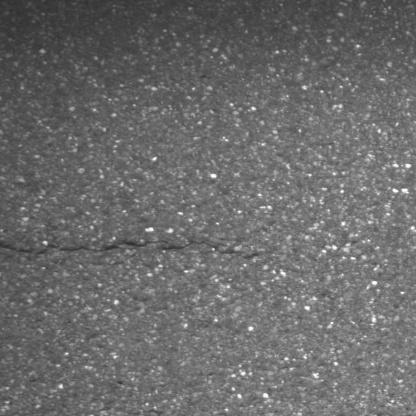Cracks: (0, 237, 267, 266)
